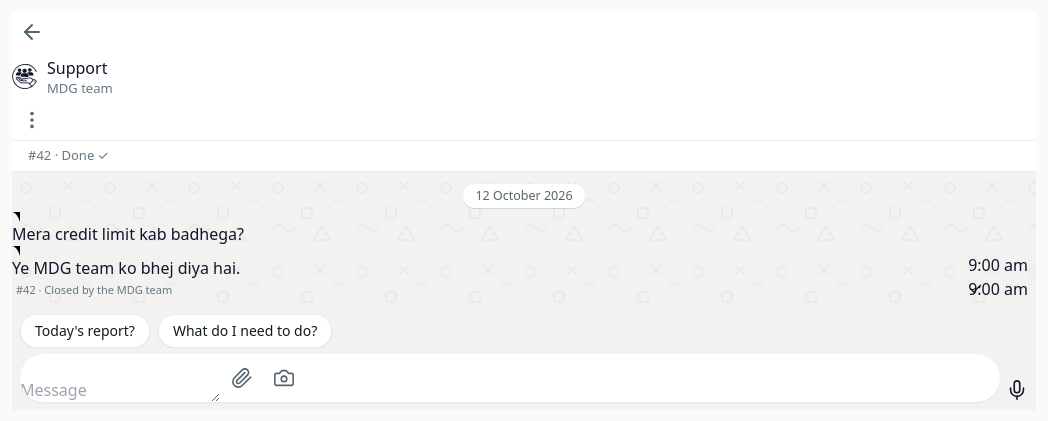
Test: ChatPage — the pinned ticket bar › steps aside while searching, and comes back when the search closes
Check: the text "#42 · Done ✓" is shown, box [28,146,109,164]
Click the button named "More options": (32, 120) [12,100,52,140]
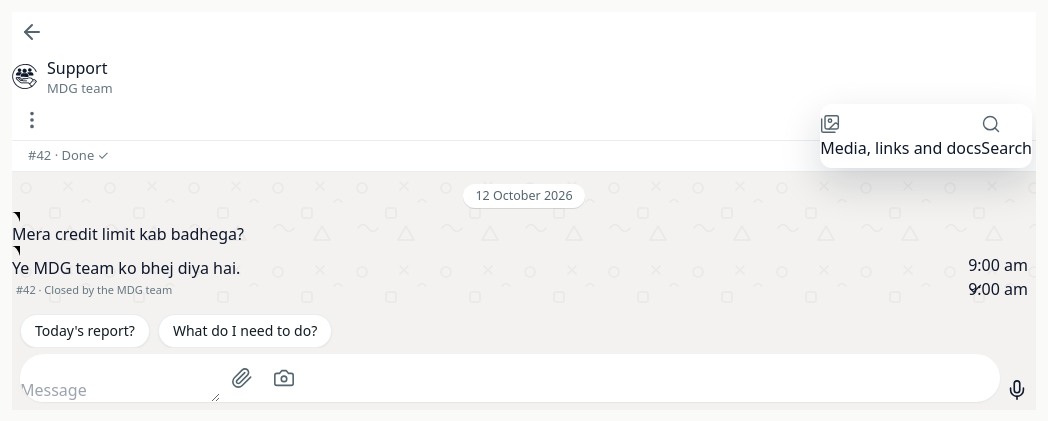
Click the menu item "Search": (1007, 136) [981,112,1032,160]
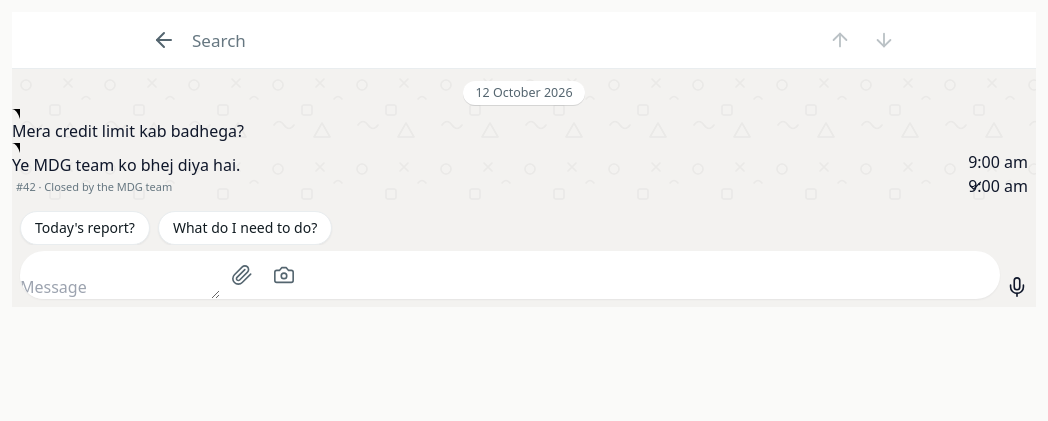
Check: the search field is shown, box [188,20,816,60]
Click the button named "Back": (164, 40) [144,20,184,60]
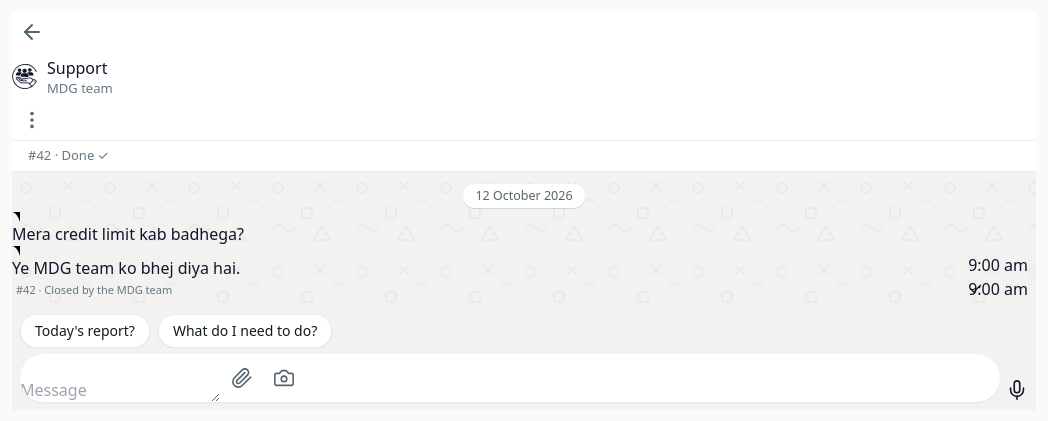
Check: the text "#42 · Done ✓" is shown, box [28,146,109,164]
